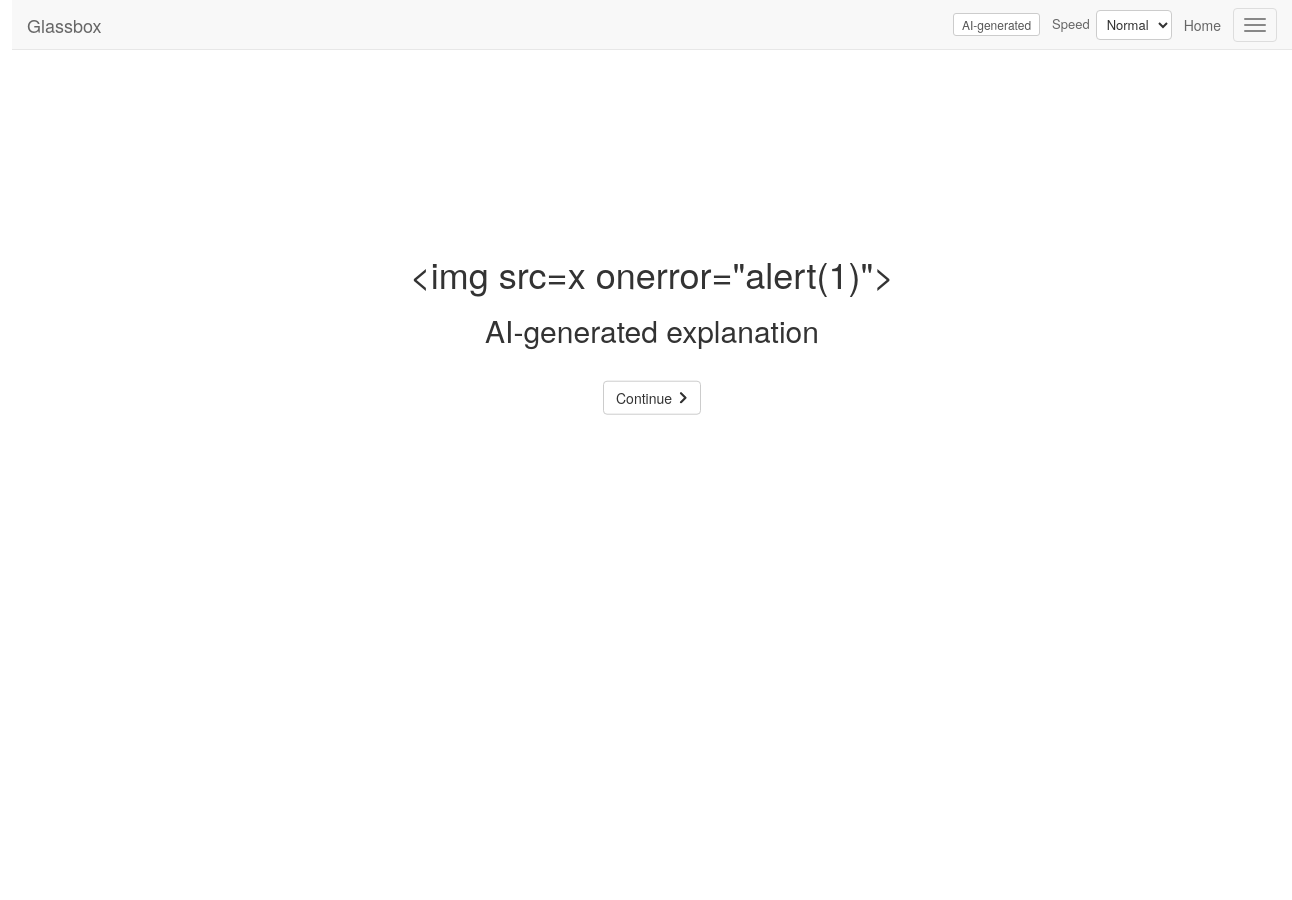
Scenario: StoryPlayer with generated content › renders hostile text as text, never as HTML
Check: the heading "<img src=x onerror=\"alert(1)\">" reads "<img src=x onerror=\"alert(1)\">", box [410, 248, 894, 299]
What coordinates should you click on to do the following:
click the button "Continue"
I would click on:
 (652, 397)
Its box is [603, 380, 701, 414].
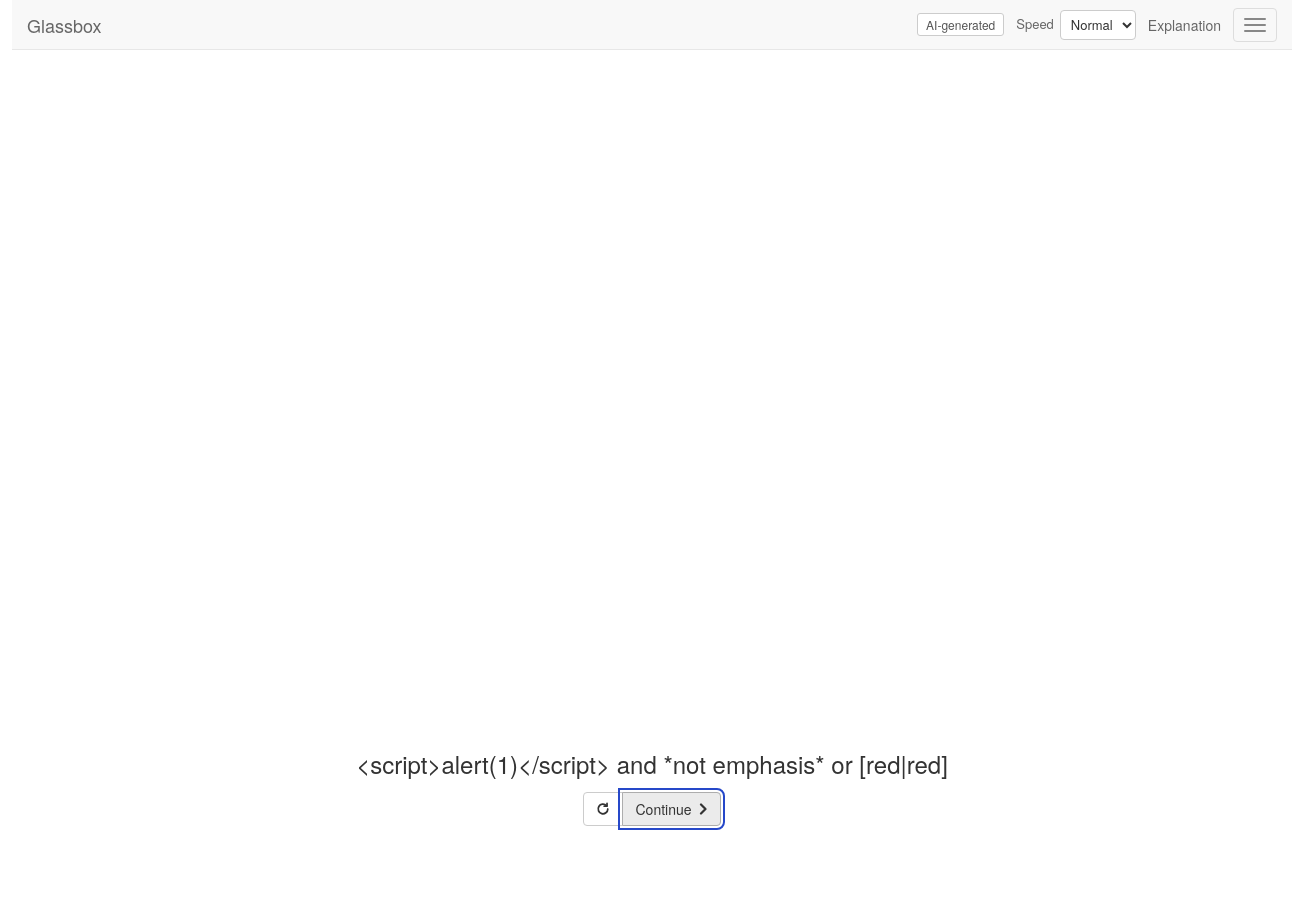
Check: the heading reads "<script>alert(1)</script> and *not emphasis* or [red|red]", box [356, 746, 948, 781]
